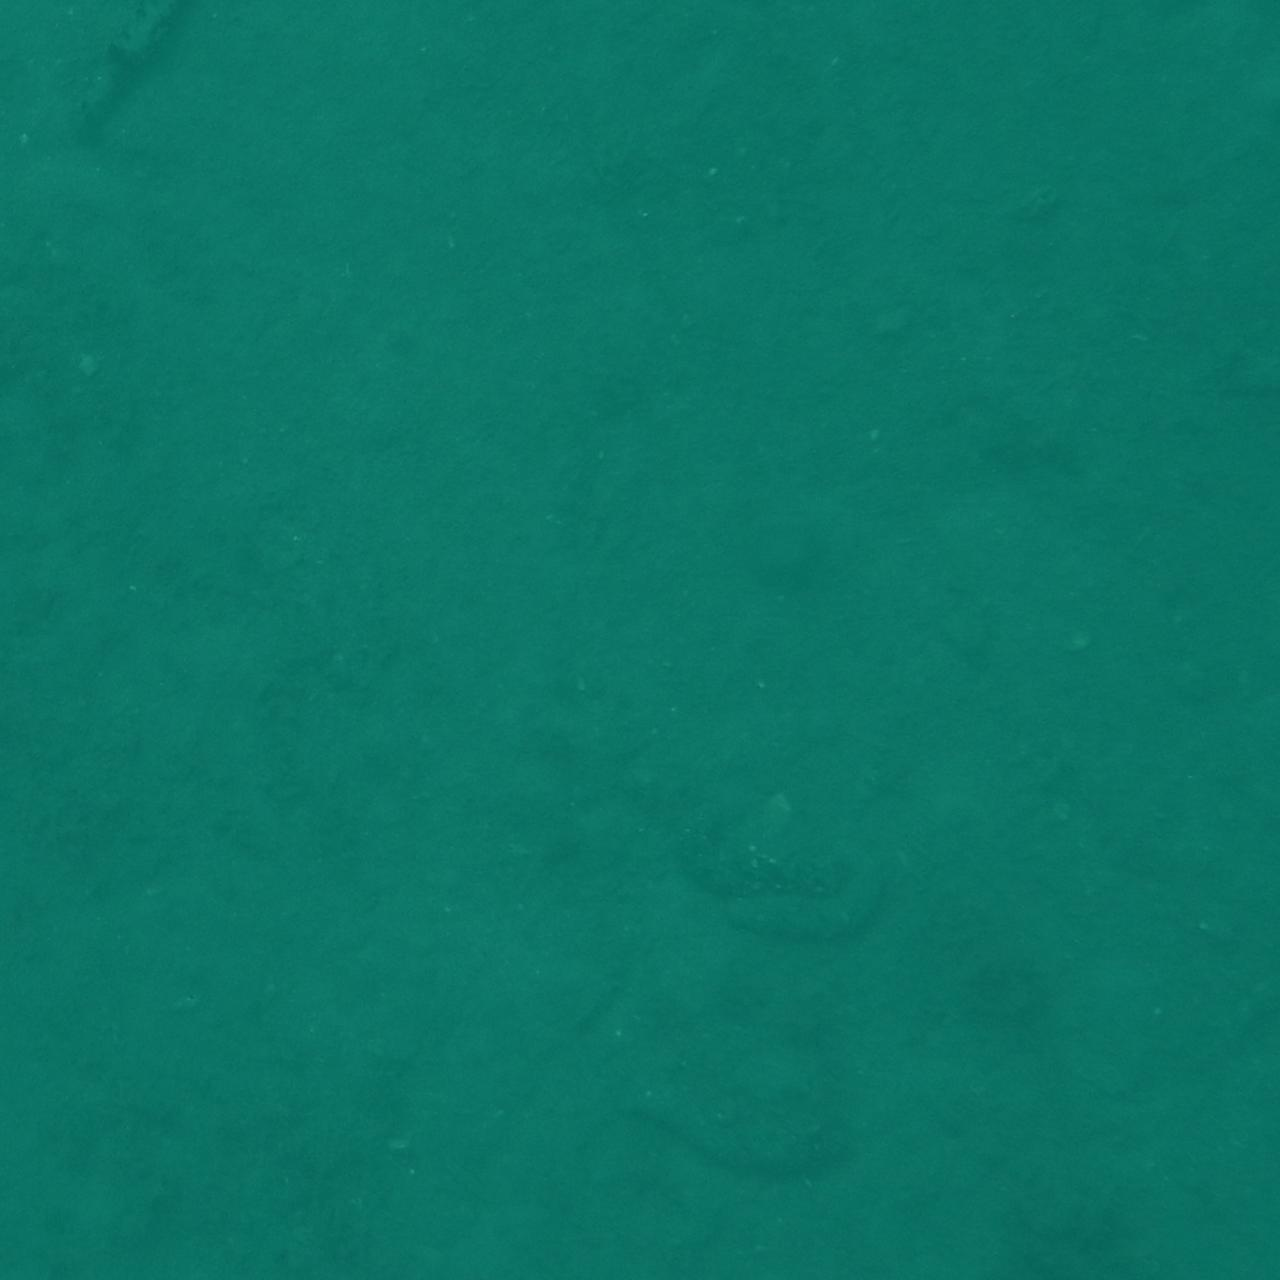Holothuria tubulosa: (600, 1067, 888, 1201), (35, 0, 233, 173), (402, 1165, 642, 1280), (0, 636, 105, 890), (0, 1105, 144, 1280), (1148, 0, 1280, 182), (654, 850, 918, 940), (1131, 1098, 1280, 1246), (0, 407, 103, 592), (599, 1144, 736, 1280), (1177, 1108, 1280, 1280), (0, 1151, 123, 1280), (0, 0, 271, 56), (264, 0, 486, 57), (1189, 293, 1280, 415), (1141, 0, 1280, 72), (1141, 0, 1280, 61), (189, 0, 381, 41), (0, 1183, 54, 1280), (0, 1179, 47, 1280)
